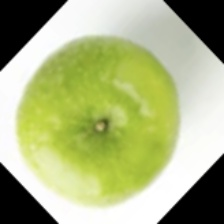apple: (54, 15, 194, 175)
